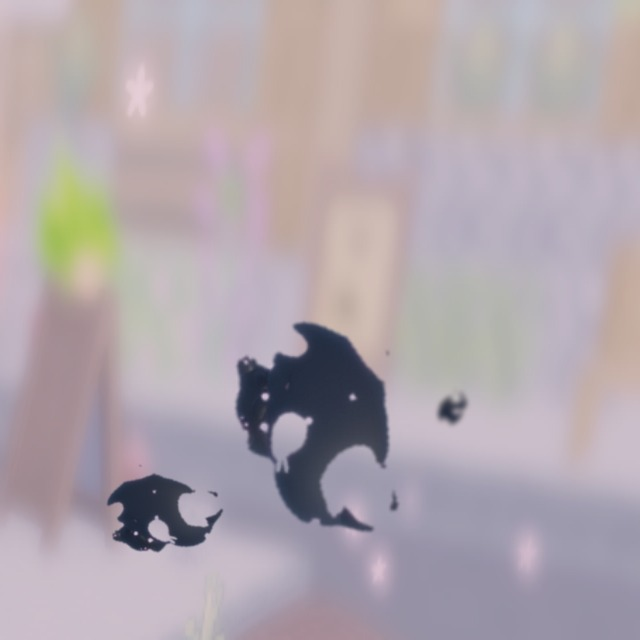urso_preto: (195, 269, 446, 587), (79, 448, 246, 579), (426, 381, 479, 435)
